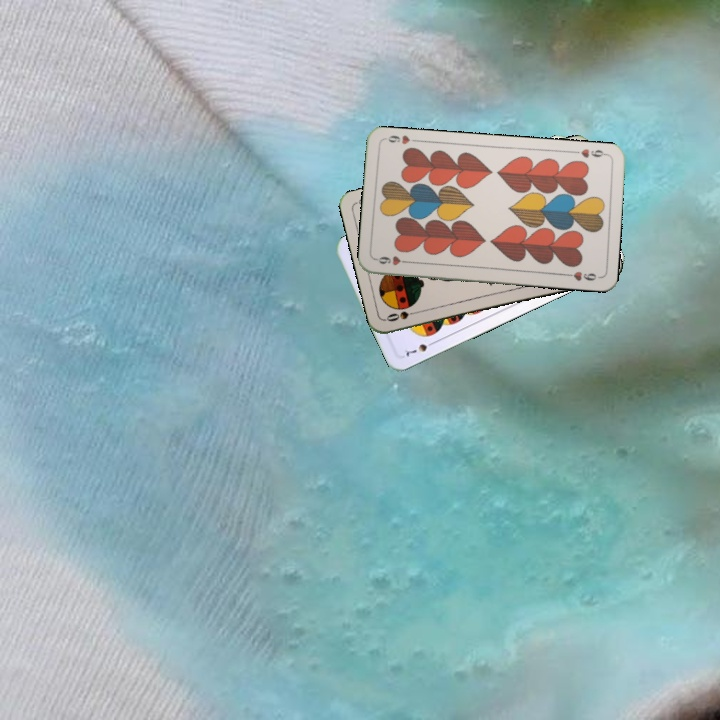H9: (373, 252, 413, 268), (577, 145, 610, 161)
S7: (402, 337, 438, 358)
SO: (382, 307, 423, 324)
